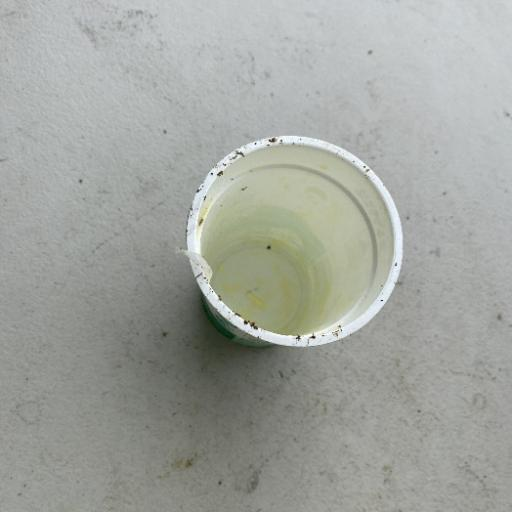Plastic: (180, 132, 405, 351)
